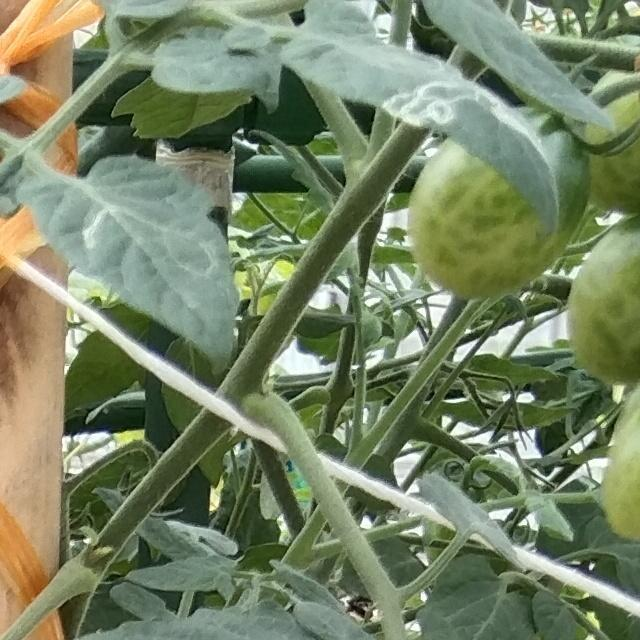Tomato target spot leaf: (276, 0, 562, 237), (12, 154, 242, 380)
